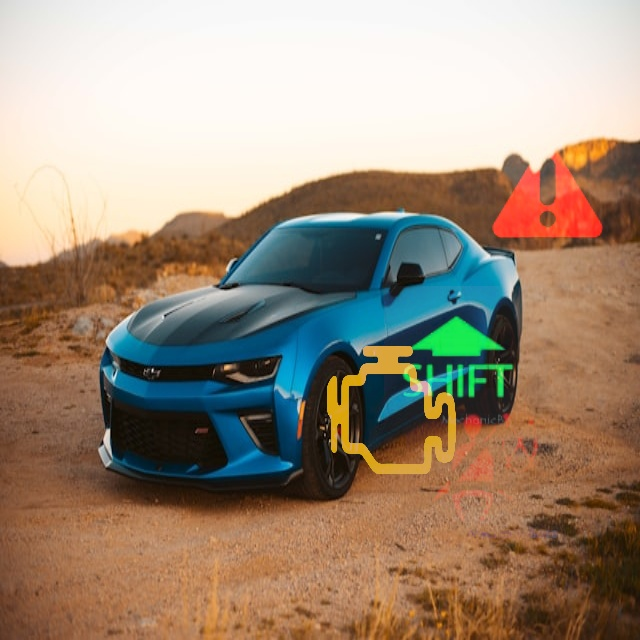symbol: (284, 298, 498, 512), (461, 105, 633, 277), (406, 388, 564, 546), (384, 286, 530, 432)
